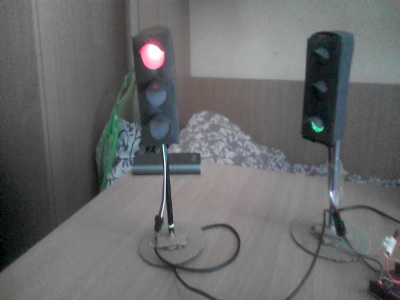trafficlight_green: (301, 38, 339, 139)
trafficlight_red: (131, 33, 174, 143)
